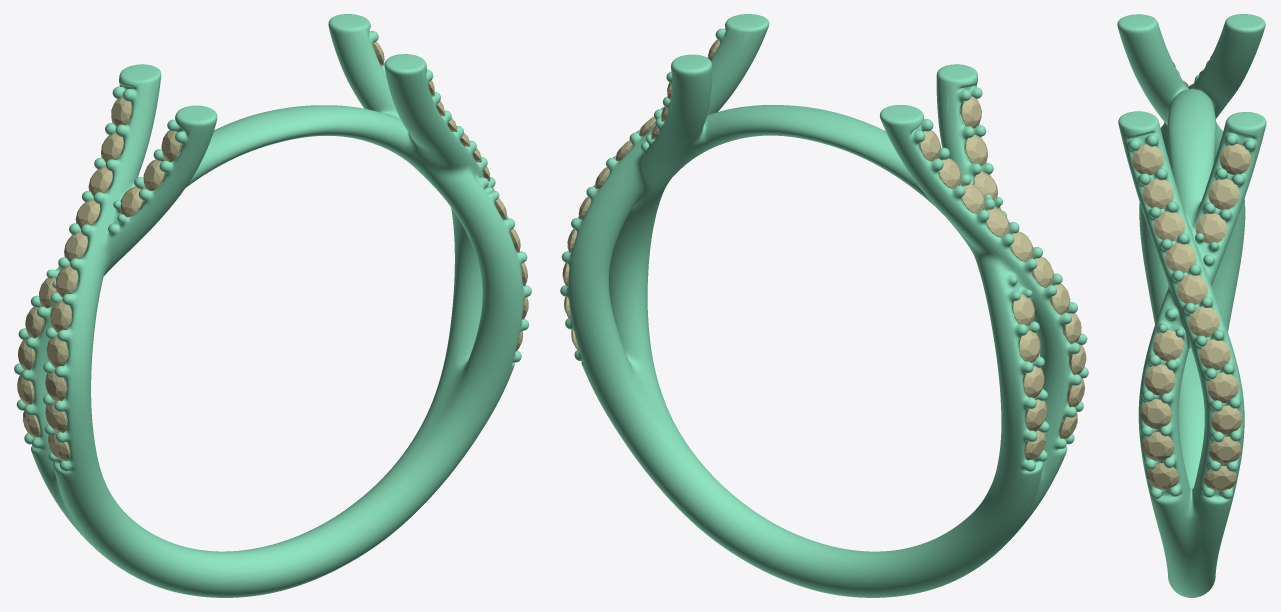
3 renders of one model, left to right at view 1: azimuth 30°, elevation 25°; view 2: azimuth 150°, elevation 25°; view 3: azimuth 270°, elevation 25°, orthographic. The views are drawn at different scales.
Visible parts, largest first — view 1: Metal02; view 2: Metal02; view 3: Metal02, Diamond_Gem.016, Diamond_Gem.018, Diamond_Gem.003, Diamond_Gem.007, Diamond_Gem.008, Diamond_Gem.013, Diamond_Gem.004, Diamond_Gem.006, Diamond_Gem.015, Diamond_Gem.005, Diamond_Gem.001 (+8 smaller).
Part boxes in pixels (box(x1,y1,x2,y2)): Metal02: box(14, 14, 531, 597); Metal02: box(560, 14, 1088, 597); Metal02: box(1117, 14, 1266, 597); Diamond_Gem.016: box(1208, 178, 1239, 209); Diamond_Gem.018: box(1220, 144, 1251, 174); Diamond_Gem.003: box(1144, 364, 1175, 395); Diamond_Gem.007: box(1188, 306, 1219, 337); Diamond_Gem.008: box(1199, 339, 1230, 370); Diamond_Gem.013: box(1132, 144, 1163, 175); Diamond_Gem.004: box(1152, 330, 1183, 361); Diamond_Gem.006: box(1176, 274, 1207, 304); Diamond_Gem.015: box(1142, 178, 1173, 209); Diamond_Gem.005: box(1153, 211, 1184, 241); Diamond_Gem.001: box(1142, 432, 1174, 461).
Size of the model in its own units: 21.5 by 22.13 by 5.94.
